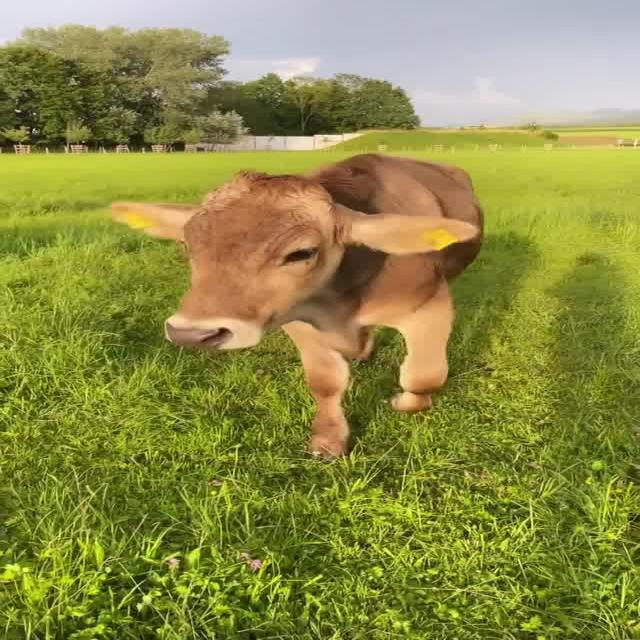cowFace: (100, 160, 485, 359)
